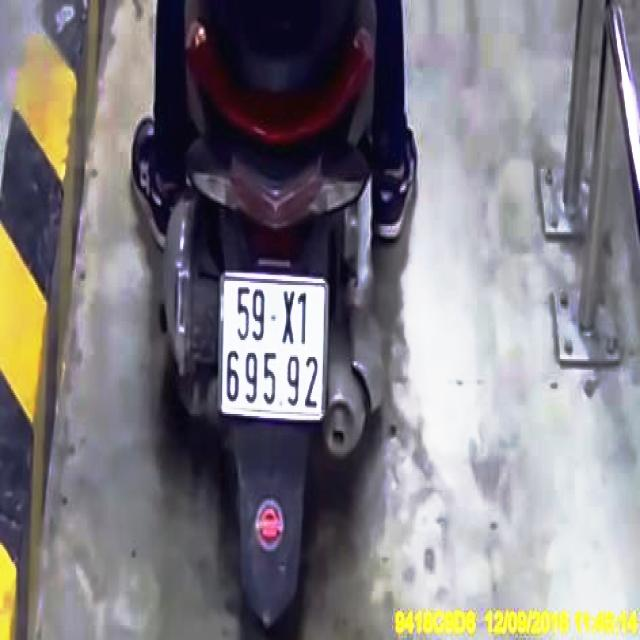license_plate: (221, 278, 330, 424)
